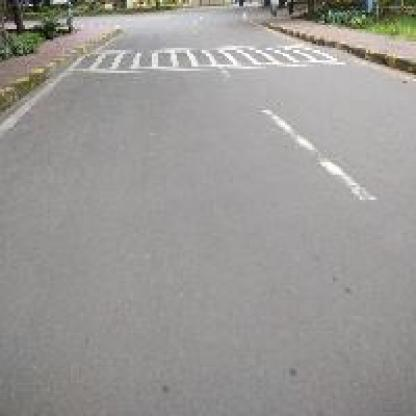Speed Bump: (71, 48, 337, 71)
